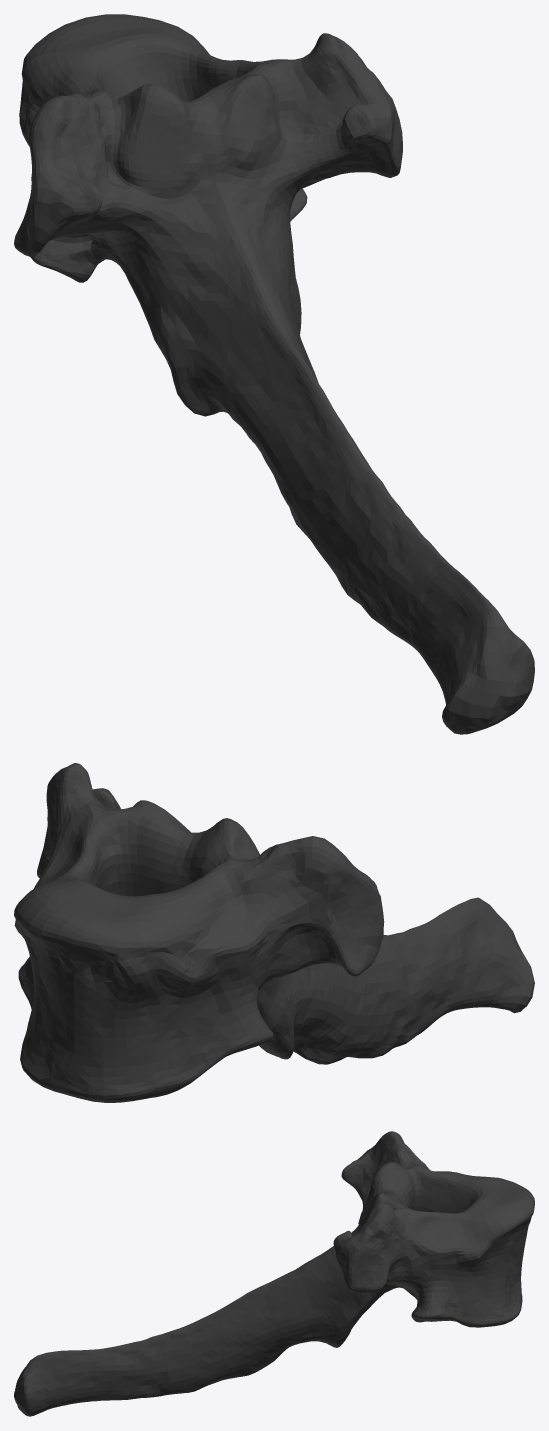
3 renders of one model, top to bottom at view 1: azimuth 30°, elevation 25°; view 2: azimuth 150°, elevation 25°; view 3: azimuth 270°, elevation 25°, orthographic. The views are drawn at different scales.
Visible parts, largest first — view 1: t5_low; view 2: t5_low; view 3: t5_low.
Part boxes in pixels (left/top/right/bottom): t5_low: left=14, top=14, right=534, bottom=734; t5_low: left=14, top=763, right=534, bottom=1102; t5_low: left=14, top=1131, right=534, bottom=1416.
Size of the model in its own units: 35.47 by 41.46 by 76.72.
1 material, 1 textured.
